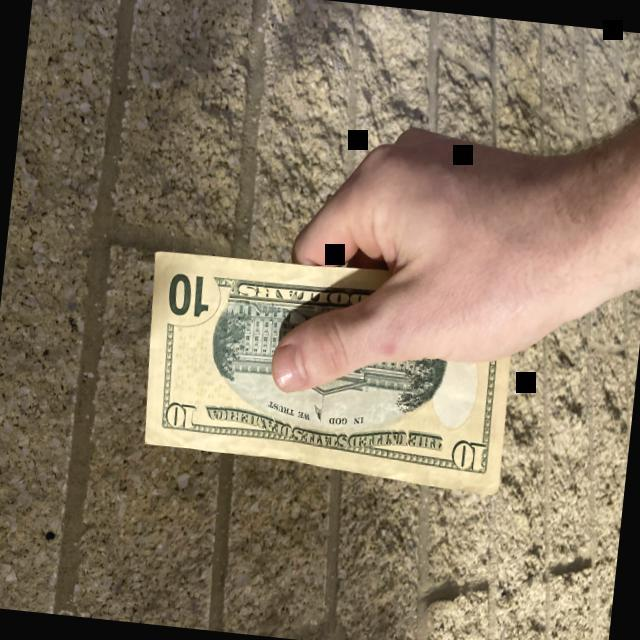ten: (131, 242, 524, 496)
